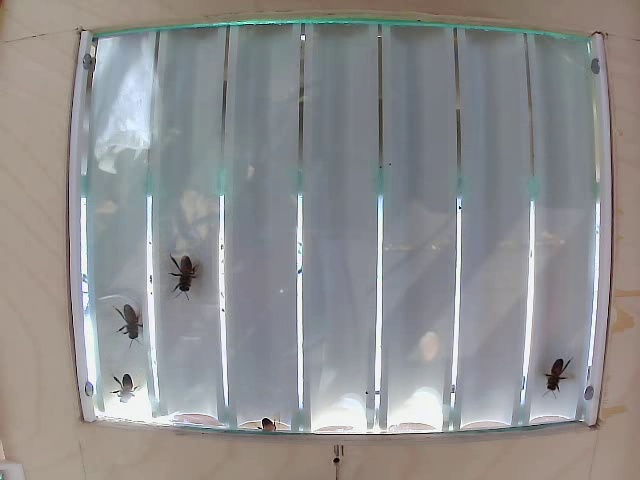bee: (105, 363, 155, 423), (111, 298, 158, 345), (165, 253, 203, 302), (534, 351, 565, 403), (257, 417, 285, 455)
